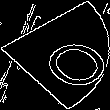O_NW: (10, 21, 100, 89)
